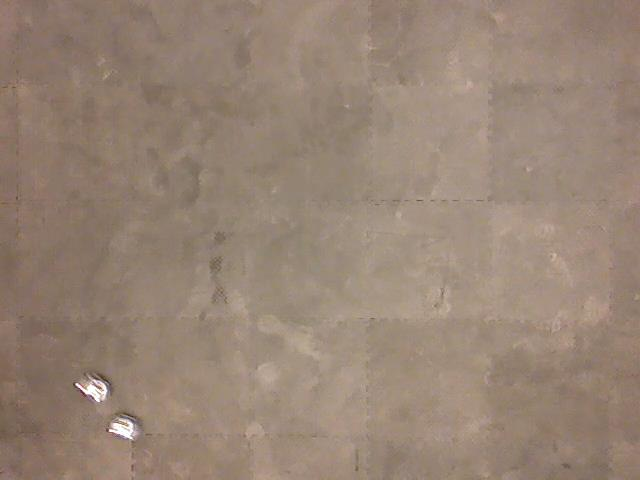Agent: (72, 370, 114, 405), (103, 410, 144, 443)
